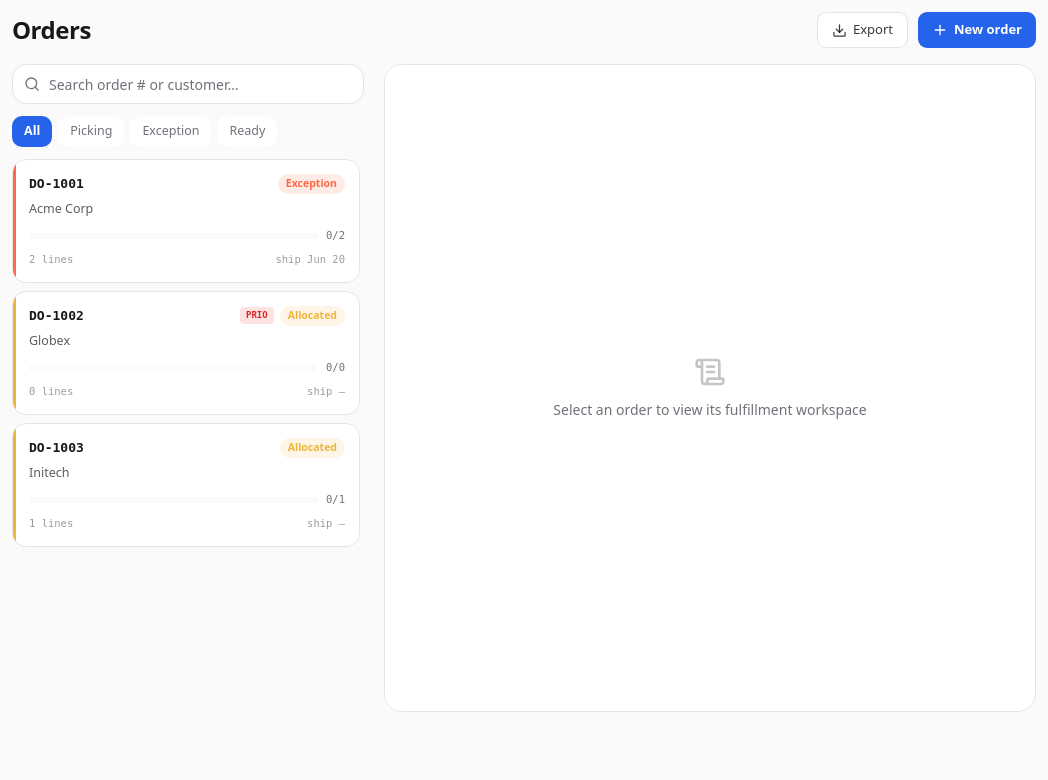
OrdersPage › loads the detail workspace when a list row is clicked
Click the text "DO-1001": (56, 184) [29, 174, 84, 193]
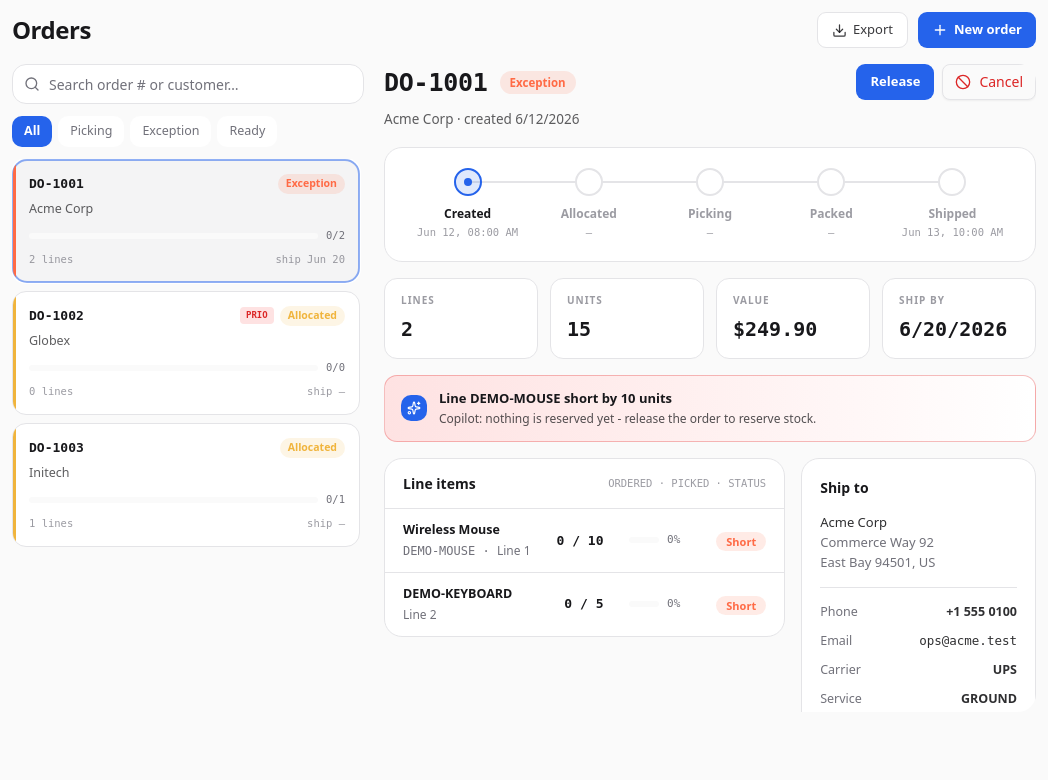
Result: the table with test id "order-lines-table" is shown at [385, 509, 784, 636]
Result: the text with test id "order-detail-status" is shown at [500, 71, 576, 94]
